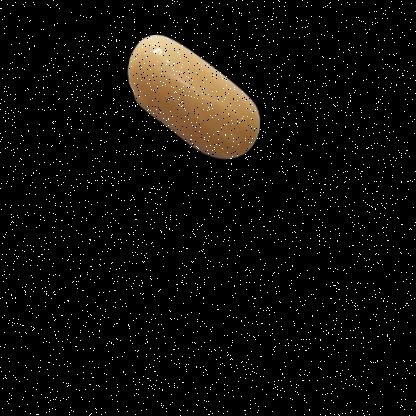t-muse: (113, 14, 281, 207)
